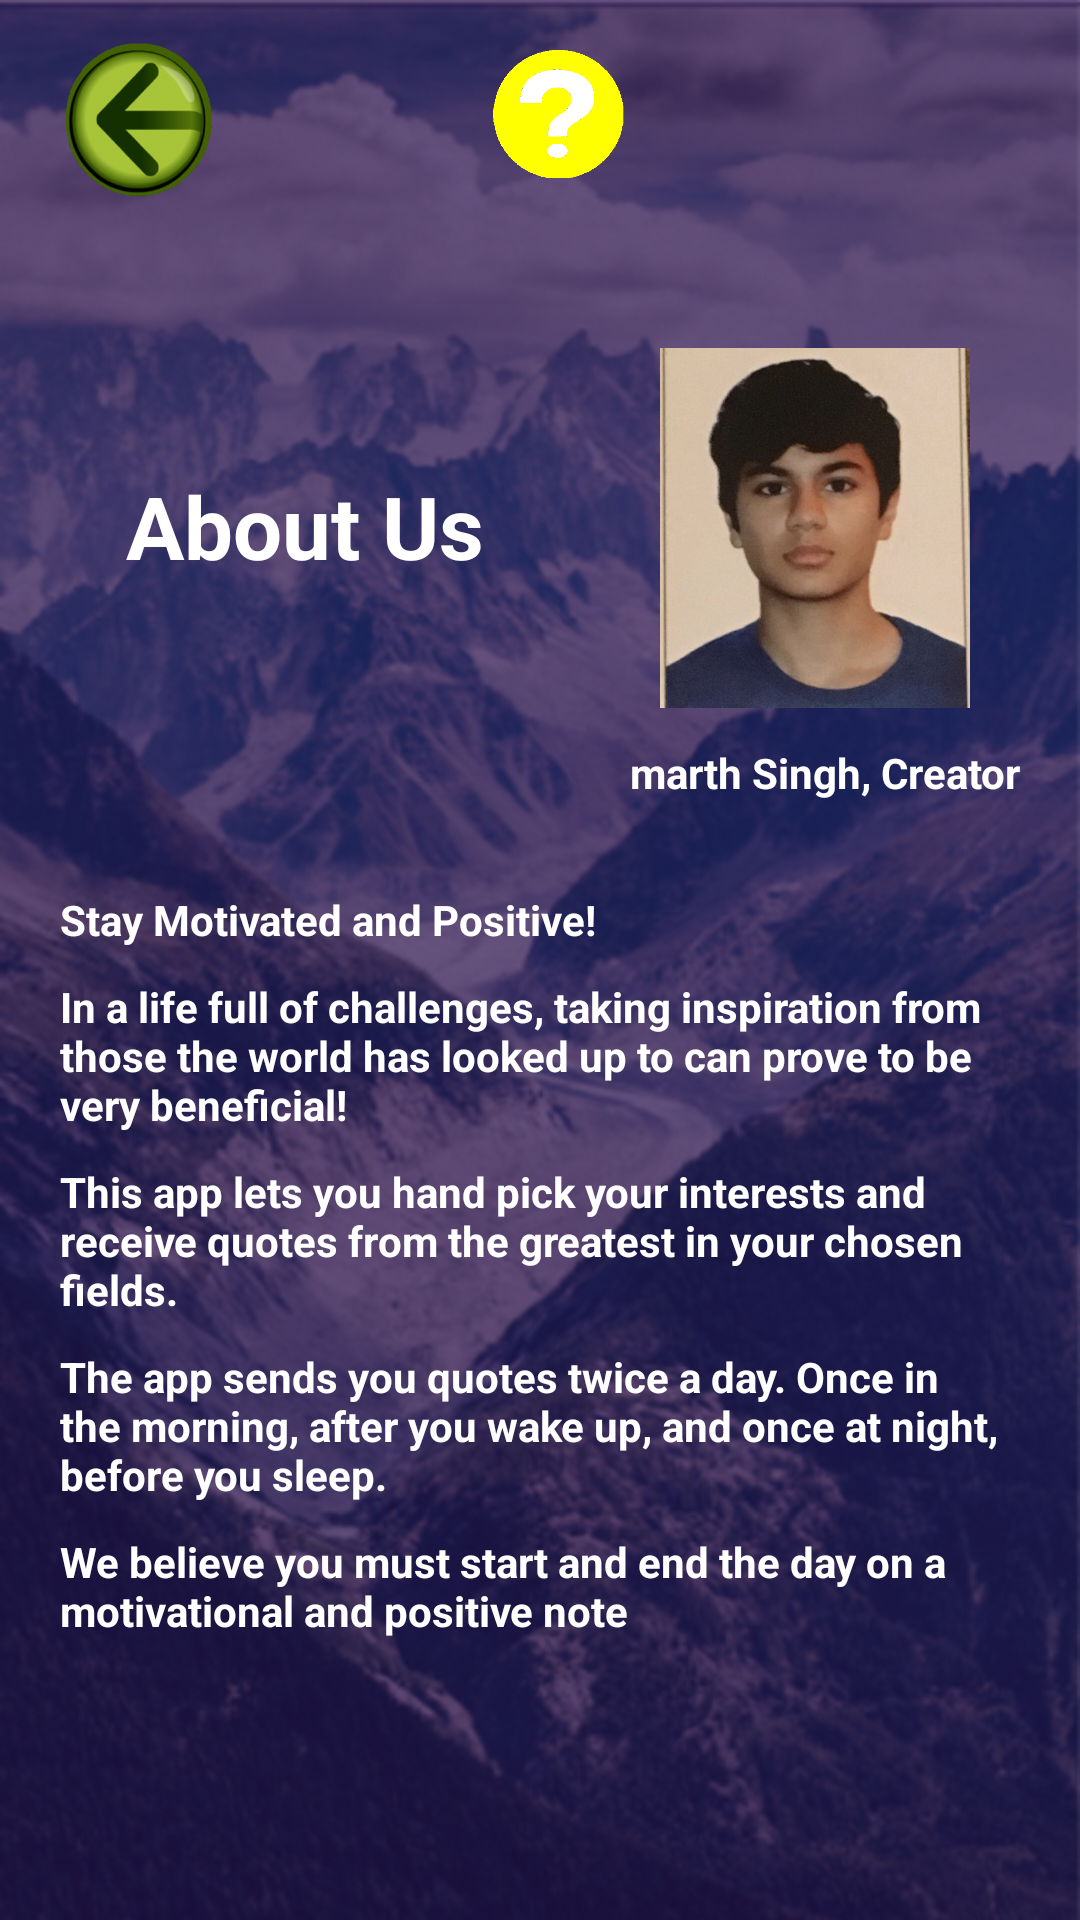

Point at icon controls on the screen. Image size 1080*1920, points as [x,y].
arrow: [138,114]
